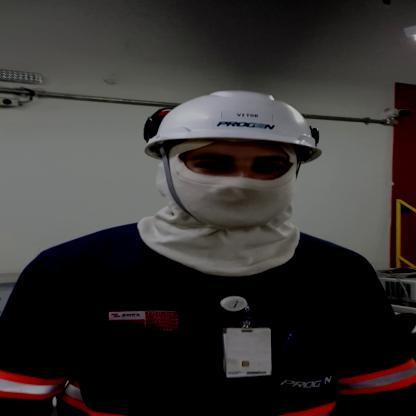Balaclava: (143, 142, 311, 273)
Capacete: (137, 91, 331, 164)
